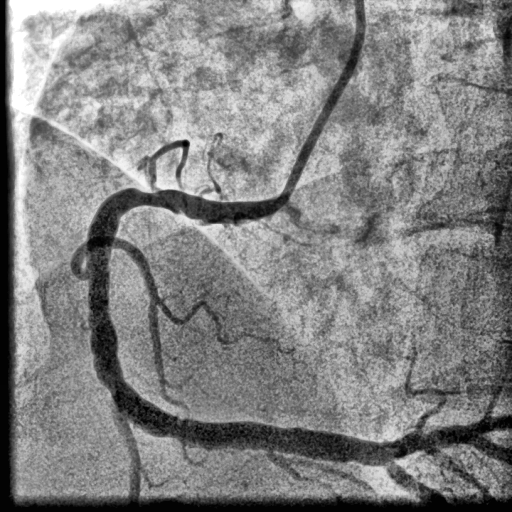pborca: (388, 415, 512, 459)
pda: (384, 460, 447, 511)
rca: (86, 189, 393, 467)
